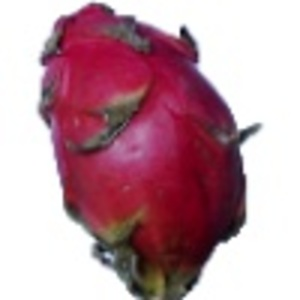pitaia: (37, 1, 264, 300)
